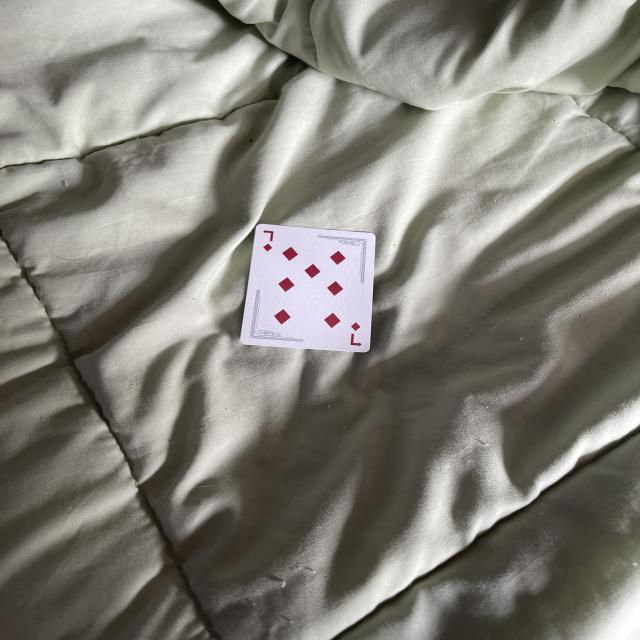7 of diamonds: (241, 224, 376, 352)
